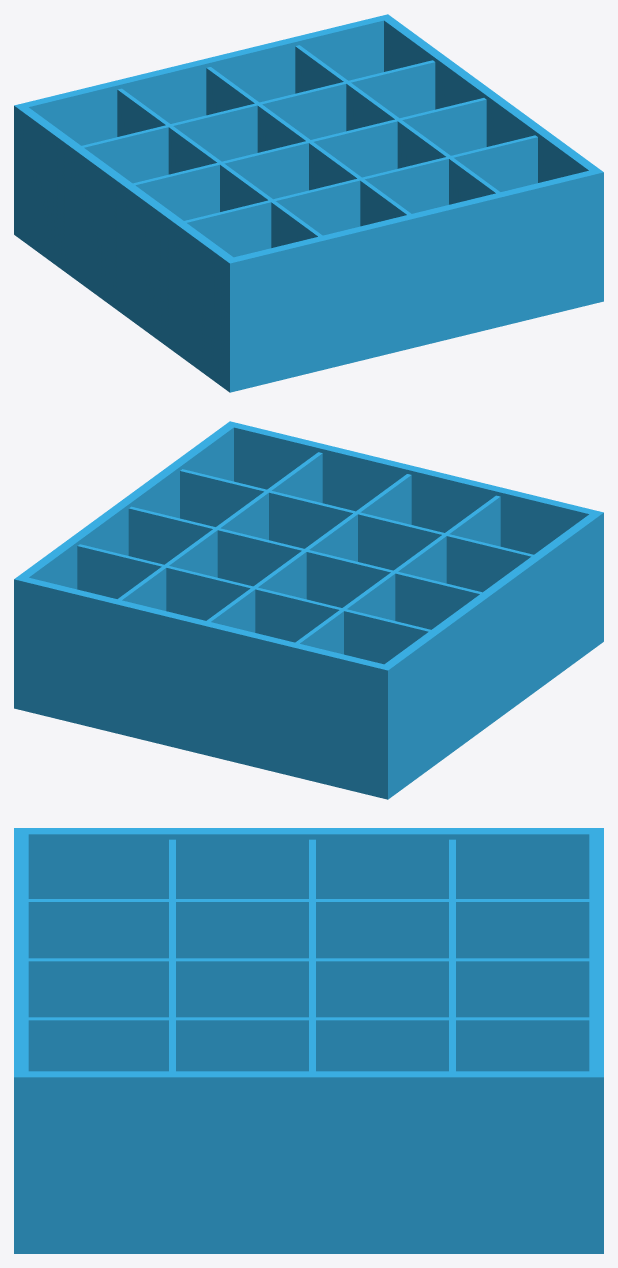
The model's file is target_4x4.dae.
3 renders of one model, top to bottom at view 1: azimuth 30°, elevation 25°; view 2: azimuth 150°, elevation 25°; view 3: azimuth 270°, elevation 25°, orthographic. The views are drawn at different scales.
Visible parts, largest first — view 1: Cube; view 2: Cube; view 3: Cube.
Part boxes in pixels (x1=…): Cube: x1=14, y1=14, x2=603, y2=392; Cube: x1=14, y1=421, x2=603, y2=799; Cube: x1=14, y1=828, x2=603, y2=1253.
Bounding box in the file's own units: 2 × 2 × 0.66.
